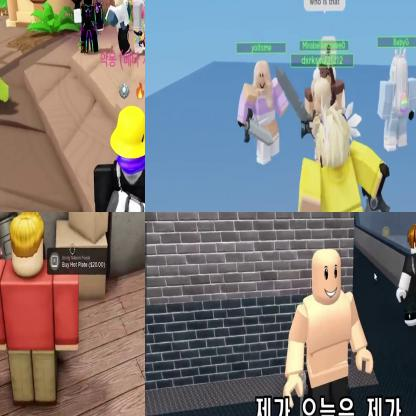Roblox-Avatar: (1, 213, 80, 407), (284, 250, 375, 416), (298, 89, 392, 212), (238, 61, 290, 166), (94, 106, 145, 212), (378, 48, 416, 154), (397, 222, 416, 333)
